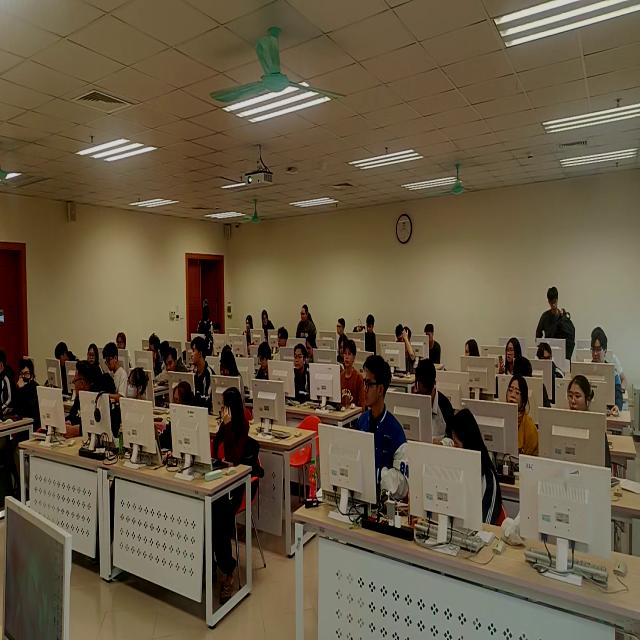raise_head: (357, 354, 410, 503), (113, 366, 149, 450), (505, 374, 540, 457), (16, 356, 45, 437), (341, 338, 365, 419), (292, 343, 311, 407), (165, 344, 189, 380), (117, 329, 133, 376), (88, 343, 103, 378), (279, 325, 290, 349), (337, 315, 348, 336)
stand: (537, 286, 571, 355), (298, 301, 319, 348), (197, 303, 214, 359), (260, 307, 277, 345), (244, 313, 256, 358)
using_computer: (565, 375, 611, 474), (154, 380, 197, 468), (415, 360, 454, 449), (591, 328, 624, 416), (602, 326, 628, 388), (220, 346, 245, 408), (104, 341, 128, 396), (54, 340, 77, 394), (537, 342, 566, 384), (424, 320, 444, 366), (400, 327, 418, 378), (1, 349, 14, 419), (258, 342, 274, 384), (364, 310, 377, 353), (306, 333, 319, 364), (336, 333, 347, 366), (212, 321, 223, 339)
using_phone: (497, 337, 525, 377)
